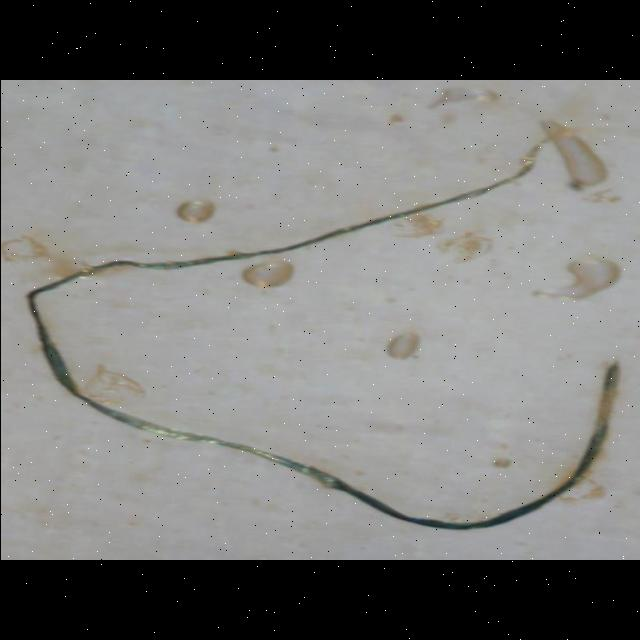Fibre: (26, 119, 628, 531)
